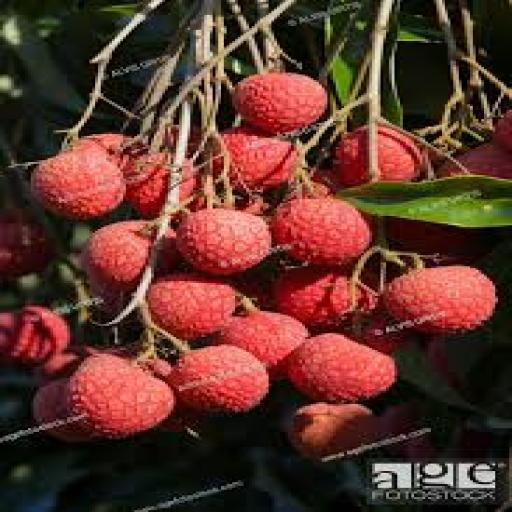lychee: (65, 354, 173, 437), (286, 334, 397, 402), (384, 267, 498, 333), (31, 146, 125, 219), (272, 198, 372, 266), (168, 345, 268, 413), (177, 209, 271, 275), (216, 311, 307, 377), (149, 272, 237, 340), (233, 73, 327, 134), (82, 220, 153, 292), (289, 403, 377, 459), (222, 127, 296, 191), (275, 267, 352, 327), (0, 213, 53, 279), (124, 153, 173, 217), (440, 144, 511, 178), (378, 127, 422, 180)
